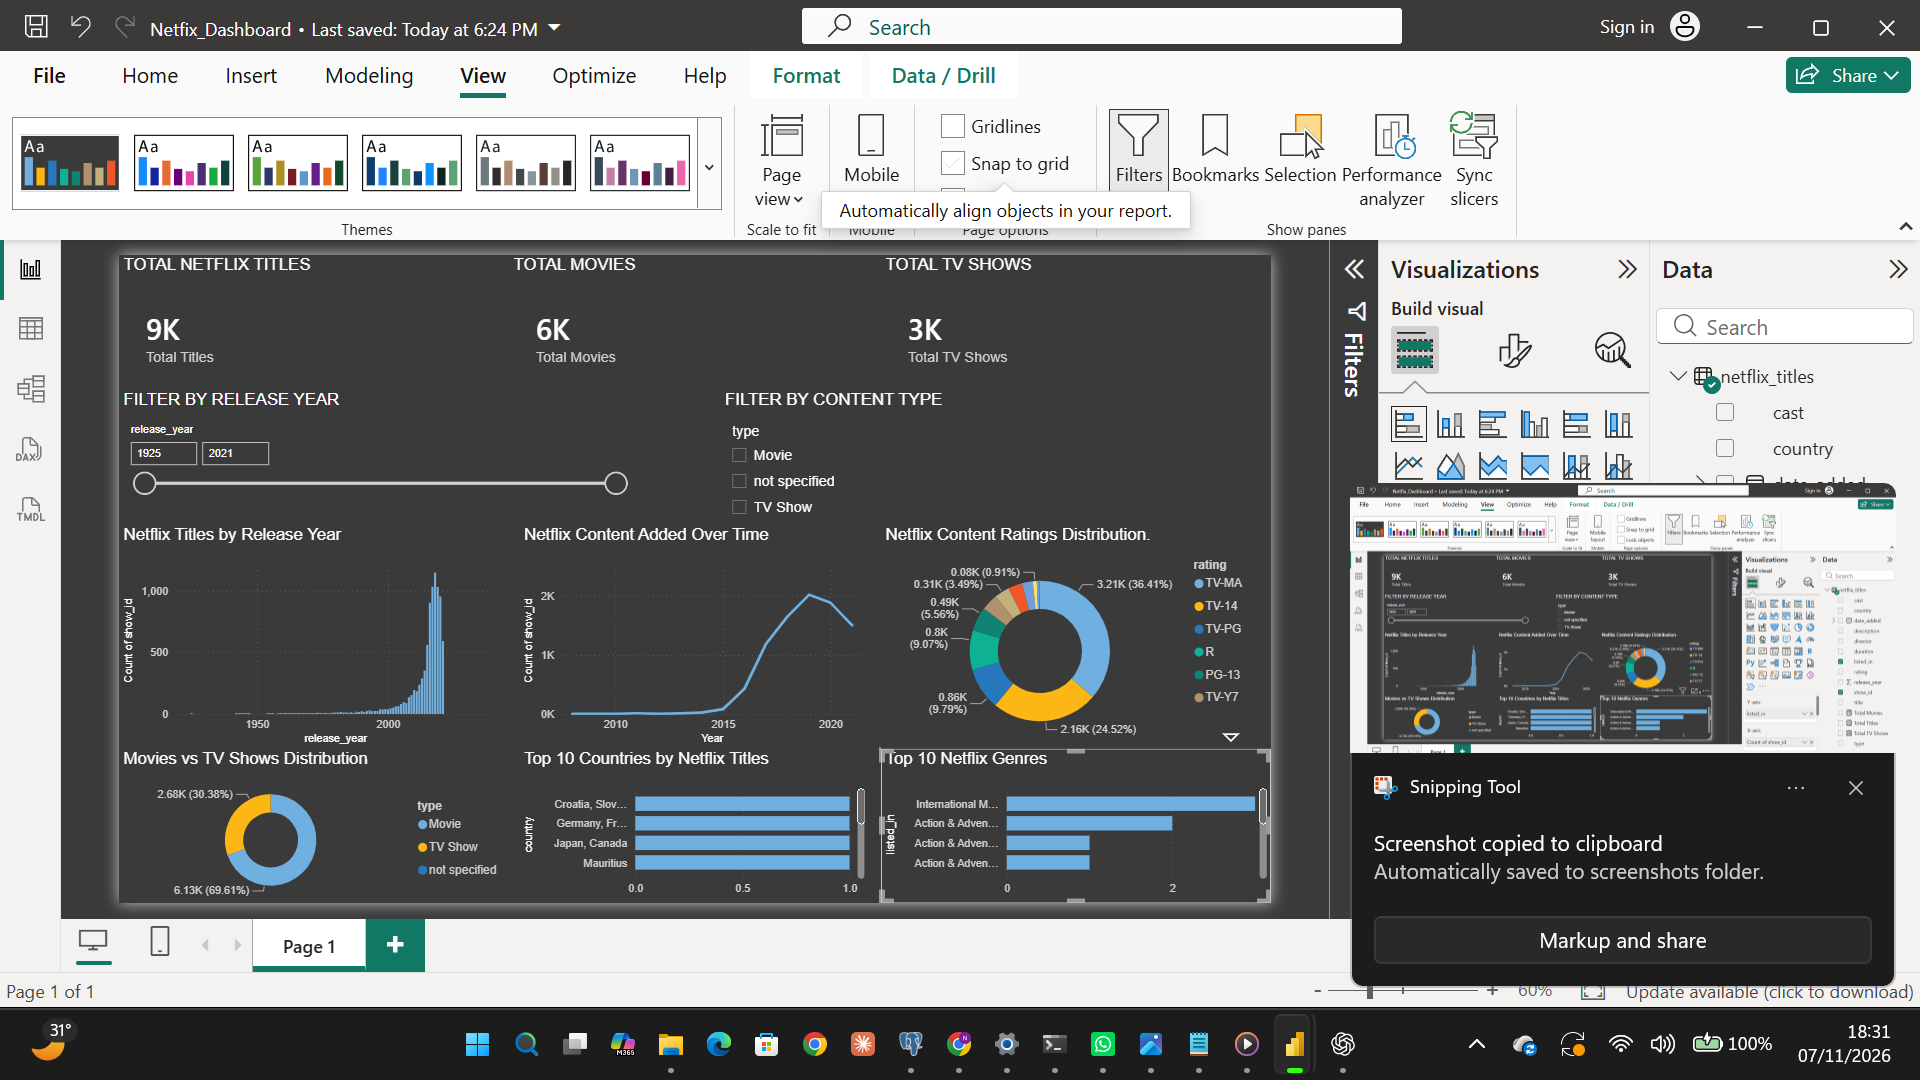

Layout of this report page (visuals, bound fields, positions):
{"tool":"powerbi","page":{"name":"Page 1","canvas":[1280,720],"ordinal":0},"visuals":[{"type":"donutChart","title":"Movies vs TV Shows Distribution","fields":{"Category":["netflix_titles.type"],"Y":["Count(netflix_titles.show_id)"]},"box":[0,548.3,433.3,171.7],"z":0},{"type":"clusteredBarChart","title":"Top 10 Countries by Netflix Titles","fields":{"Category":["netflix_titles.country"],"Y":["Count(netflix_titles.show_id)"]},"box":[445,548.3,388.3,171.7],"z":1},{"type":"barChart","title":"Top 10 Netflix Genres","fields":{"Category":["netflix_titles.listed_in"],"Y":["Count(netflix_titles.show_id)"]},"box":[846.7,548.3,433.3,171.7],"z":2},{"type":"lineChart","title":"Netflix Content Added Over Time","fields":{"Category":["netflix_titles.date_added.Variation.Date Hierarchy.Year"],"Y":["Count(netflix_titles.show_id)"]},"box":[445,300,388.3,248.3],"z":3},{"type":"clusteredColumnChart","title":"Netflix Titles by Release Year","fields":{"Y":["Count(netflix_titles.show_id)"],"Category":["netflix_titles.release_year"]},"box":[0,300,433.3,248.3],"z":4},{"type":"donutChart","title":"Netflix Content Ratings Distribution.","fields":{"Category":["netflix_titles.rating"],"Y":["Count(netflix_titles.show_id)"]},"box":[846.7,300,433.3,248.3],"z":5},{"type":"cardVisual","title":"TOTAL NETFLIX TITLES","fields":{"Data":["netflix_titles.Total Titles"]},"box":[0,0,348.3,150],"z":6},{"type":"cardVisual","title":"TOTAL MOVIES","fields":{"Data":["netflix_titles.Total Movies"]},"box":[433.3,0,343.3,150],"z":7},{"type":"cardVisual","title":"TOTAL TV SHOWS","fields":{"Data":["netflix_titles.Total TV Shows"]},"box":[846.7,0,426.7,150],"z":8},{"type":"slicer","title":"FILTER BY CONTENT TYPE","fields":{"Values":["netflix_titles.type"]},"box":[668.3,150,611.7,150],"z":9},{"type":"slicer","title":"FILTER BY RELEASE YEAR","fields":{"Values":["netflix_titles.release_year"]},"box":[0,150,573.3,150],"z":10}]}

Visuals, with their boxes on the page's 1280x720 design canvas (x1, y1, x2, y2). These are canvas units, not pixel positions in the 1920x1080 screenshot, which may show the page scaled, cropped or inside an application window:
"Movies vs TV Shows Distribution" donutChart: box(0, 548, 433, 720)
"Top 10 Countries by Netflix Titles" clusteredBarChart: box(445, 548, 833, 720)
"Top 10 Netflix Genres" barChart: box(847, 548, 1280, 720)
"Netflix Content Added Over Time" lineChart: box(445, 300, 833, 548)
"Netflix Titles by Release Year" clusteredColumnChart: box(0, 300, 433, 548)
"Netflix Content Ratings Distribution." donutChart: box(847, 300, 1280, 548)
"TOTAL NETFLIX TITLES" cardVisual: box(0, 0, 348, 150)
"TOTAL MOVIES" cardVisual: box(433, 0, 777, 150)
"TOTAL TV SHOWS" cardVisual: box(847, 0, 1273, 150)
"FILTER BY CONTENT TYPE" slicer: box(668, 150, 1280, 300)
"FILTER BY RELEASE YEAR" slicer: box(0, 150, 573, 300)
